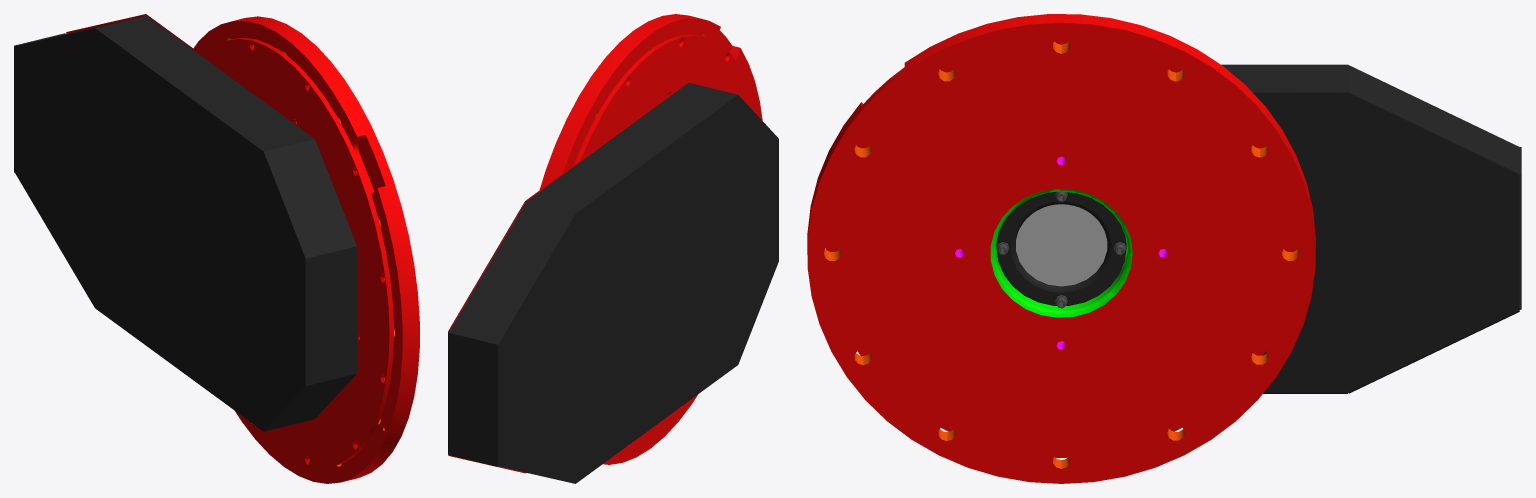
Rendered from Driver_Faceplate_P1.dae.
3 renders of one model, left to right at view 1: azimuth 30°, elevation 25°; view 2: azimuth 150°, elevation 25°; view 3: azimuth 270°, elevation 25°, orthographic. The views are drawn at different scales.
Visible parts, largest first — view 1: Node_0000020554C22040 (×2); view 2: Node_0000020554C22040 (×2); view 3: Node_0000020554C22040 (×5).
Boxes of the visible parts, x1,y1,x2,y2 form: Node_0000020554C22040 (×2): (14, 14, 419, 483); Node_0000020554C22040 (×2): (448, 14, 778, 483); Node_0000020554C22040 (×5): (807, 14, 1521, 483).
Bounding box in the file's own units: 0.089 × 0.5 × 0.7018.
